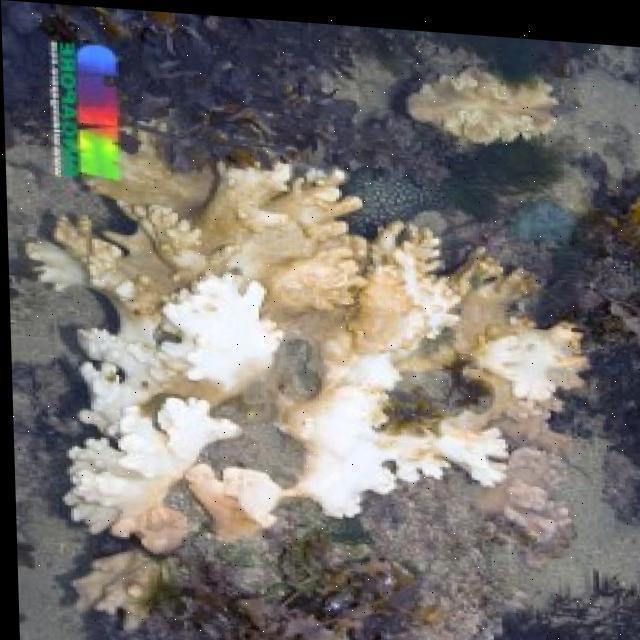Bleached Coral: (34, 147, 619, 560)
